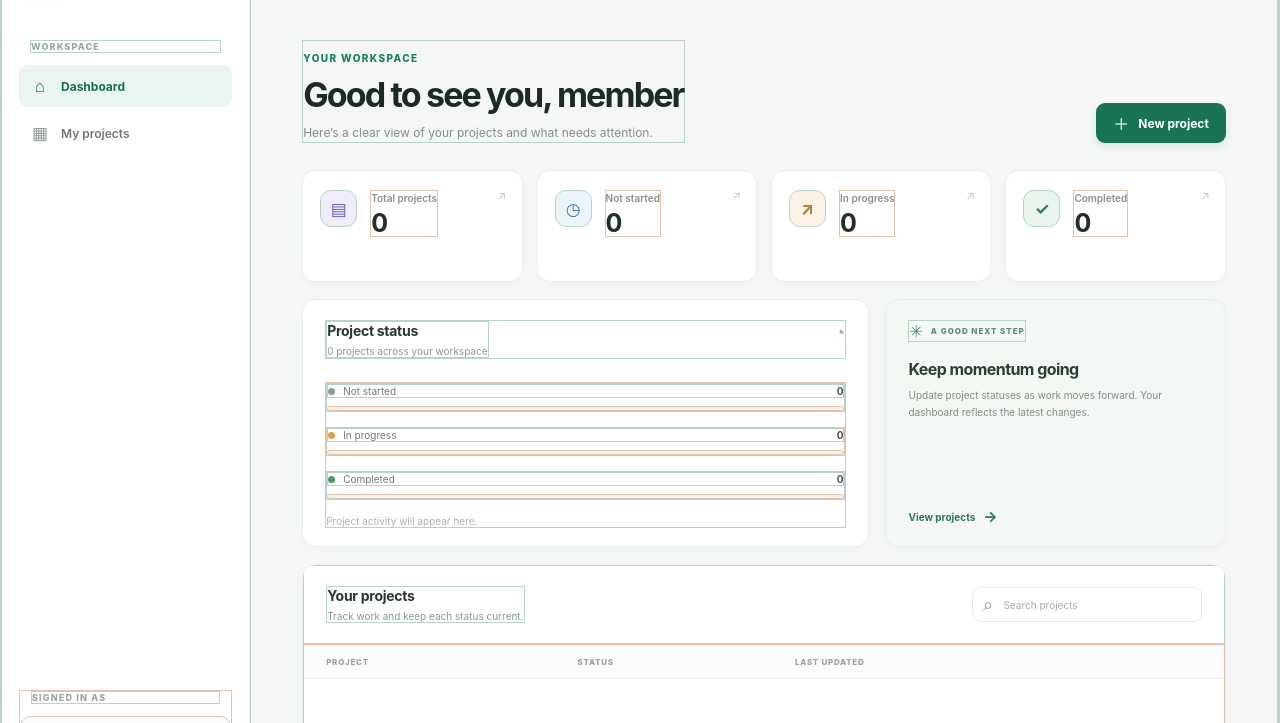
Test: workspace access and project actions › creates a project and displays the saved record
This screenshot has width=1280, height=723.
Click the button "＋ New project": (1161,123) [1096,103,1226,143]
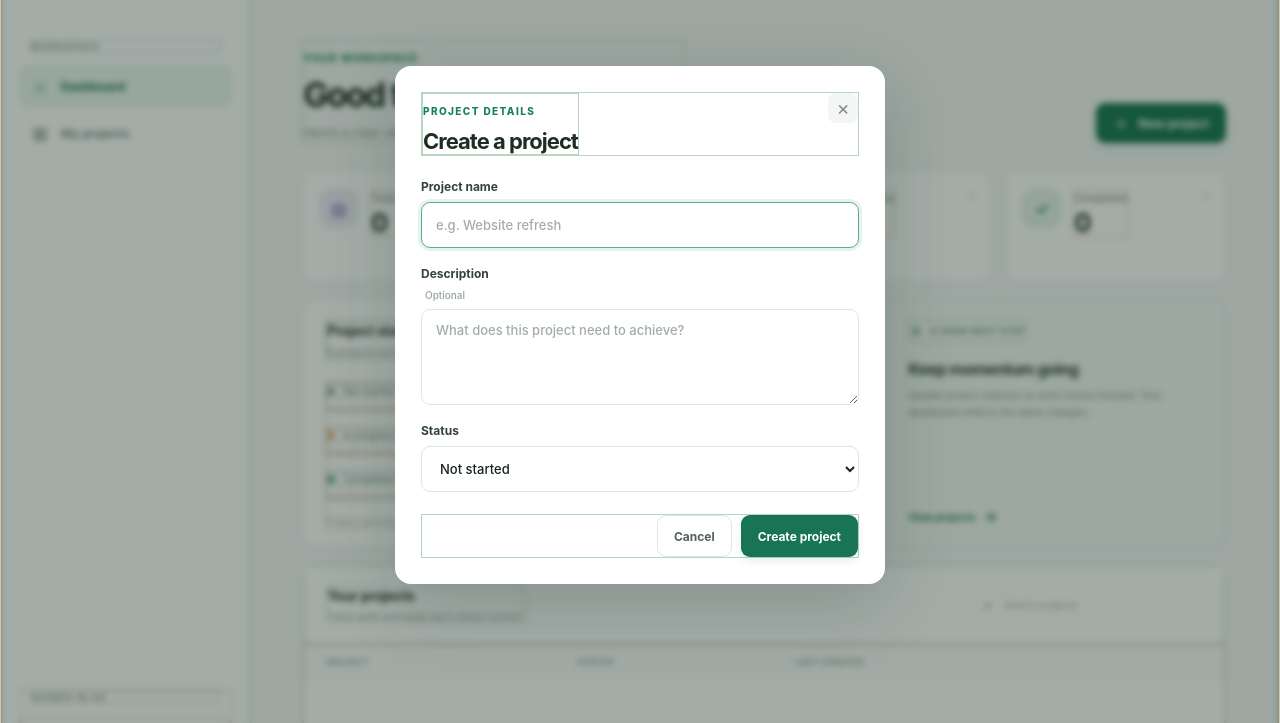
In the field labelled "Project name": (640,225) [421,202,859,248], type "New release"
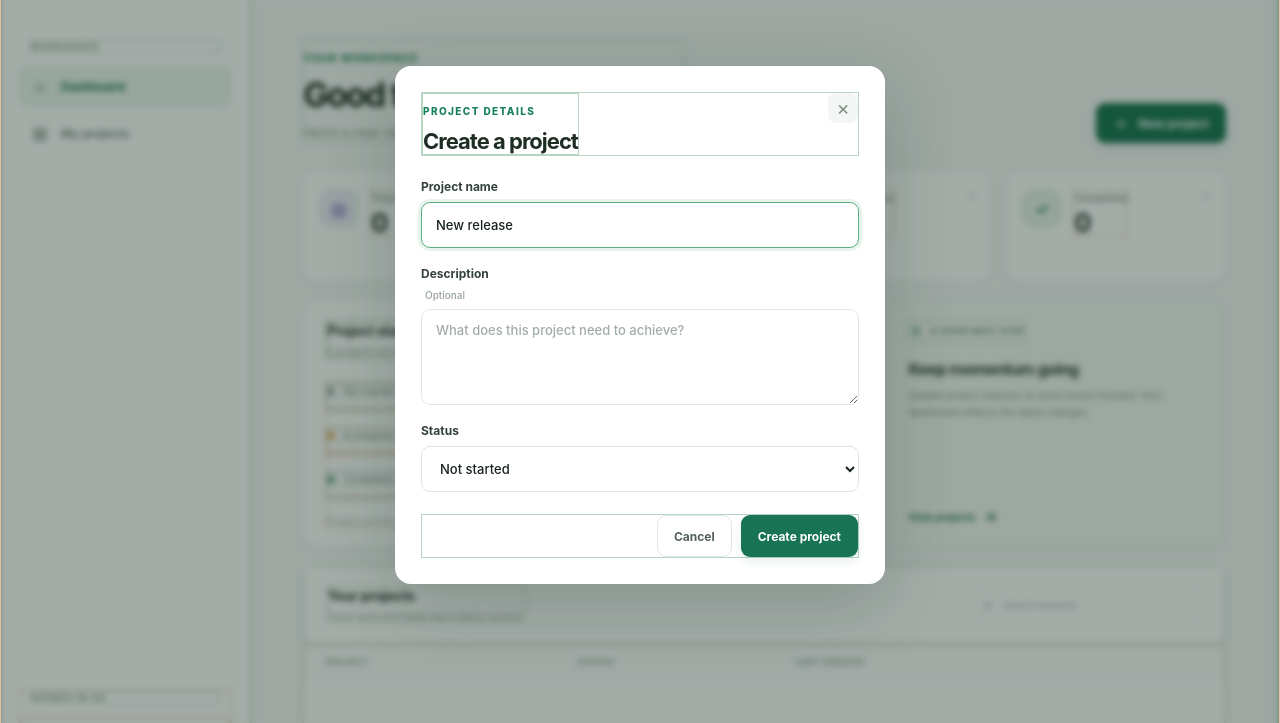
In the text box labelled "Description Optional": (640,357) [421,309,859,405], type "Release notes"
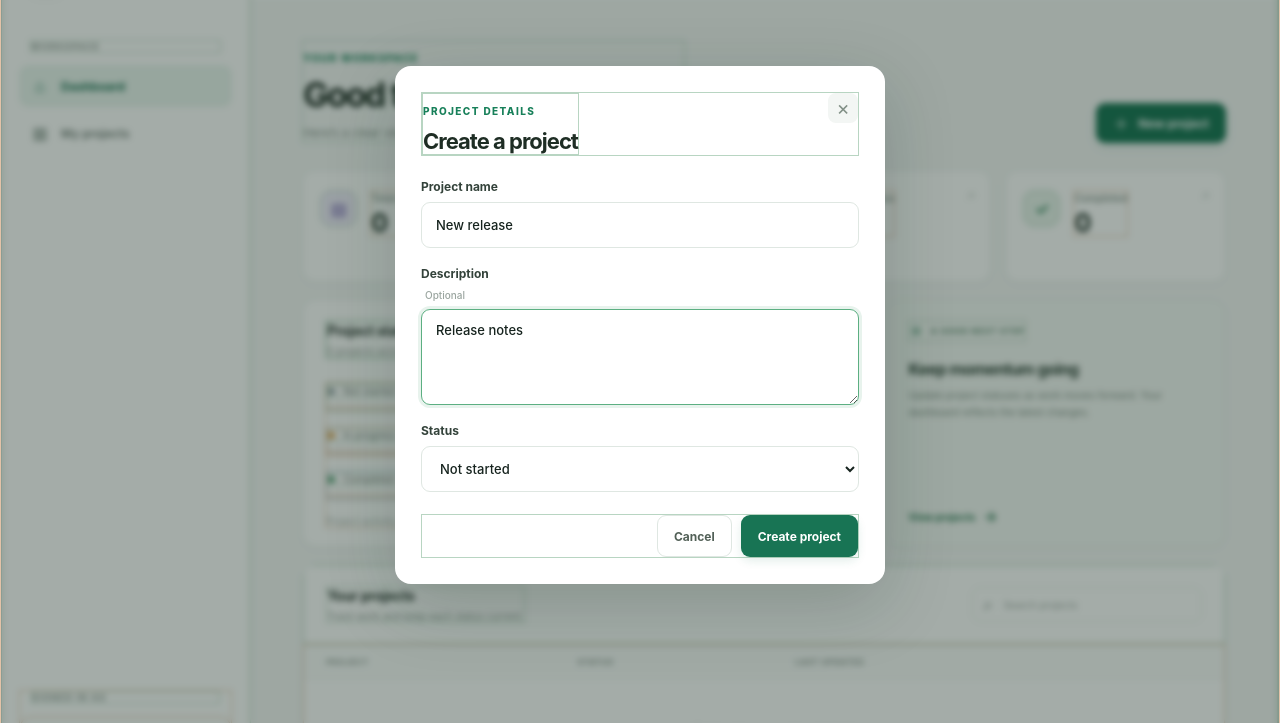
Click the button "Create project": (799,536) [741,515,858,557]
(page scrolled)
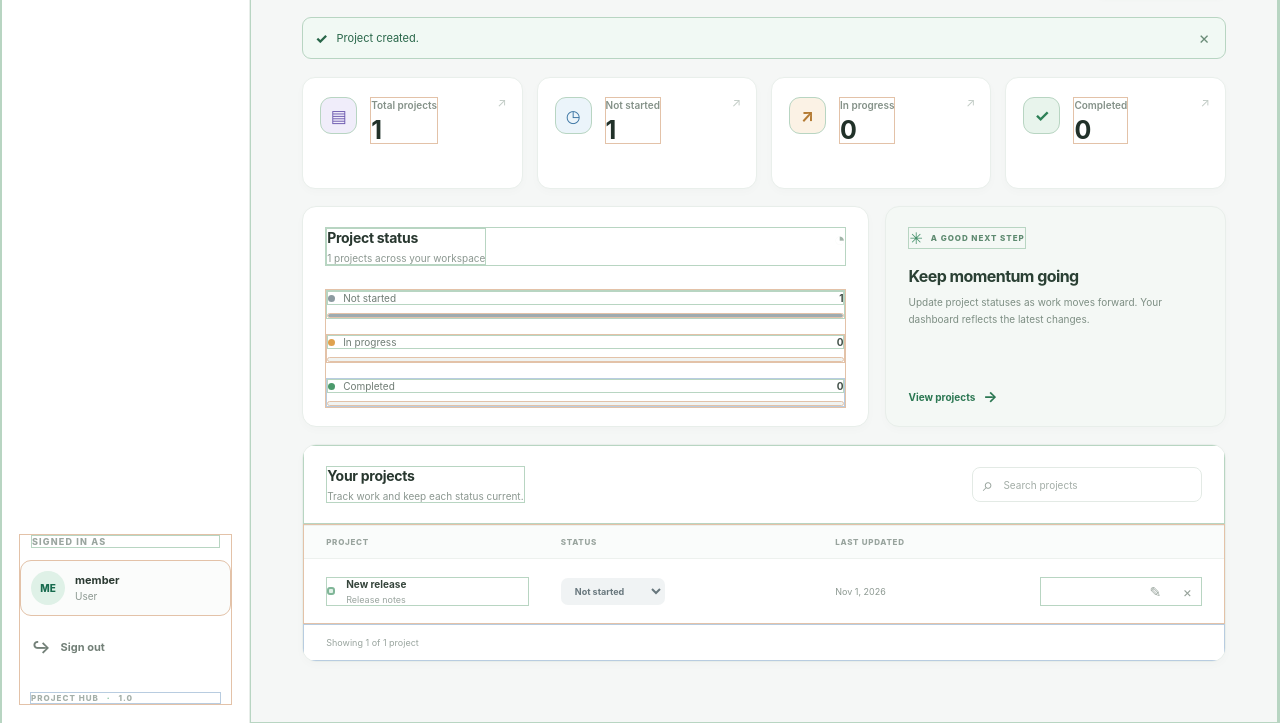
Now the text "New release" is shown, box [346,578,406,590]
Now the dialog is gone
